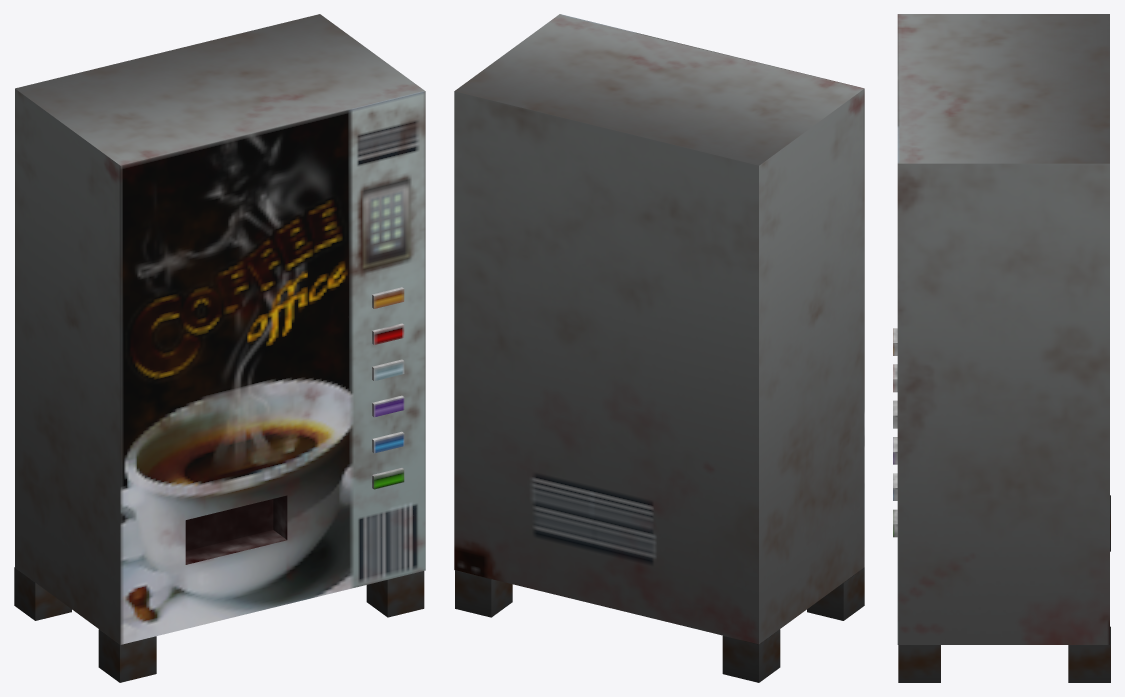
Rendered from vending_machine.FBX.
3 views of the same model, side by side, from view 1: azimuth 30°, elevation 25°; view 2: azimuth 150°, elevation 25°; view 3: azimuth 270°, elevation 25° (orthographic).
Visible parts, largest first — view 1: vending machine; view 2: vending machine; view 3: vending machine.
Part boxes in pixels (left/top/right/bottom): vending machine: left=14, top=14, right=425, bottom=682; vending machine: left=454, top=14, right=864, bottom=682; vending machine: left=893, top=14, right=1110, bottom=682.
Size of the model in its own units: 50.05 by 80.98 by 30.74.
Materials: 1 (1 with a texture image).
